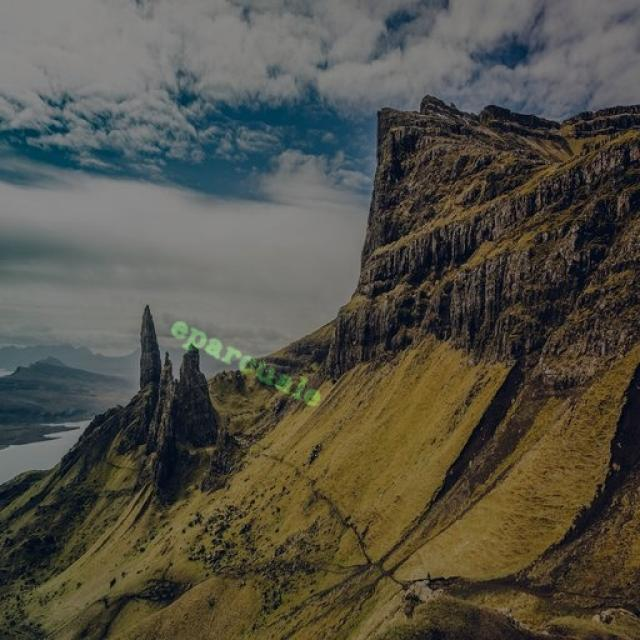watermark: (162, 310, 336, 412)
